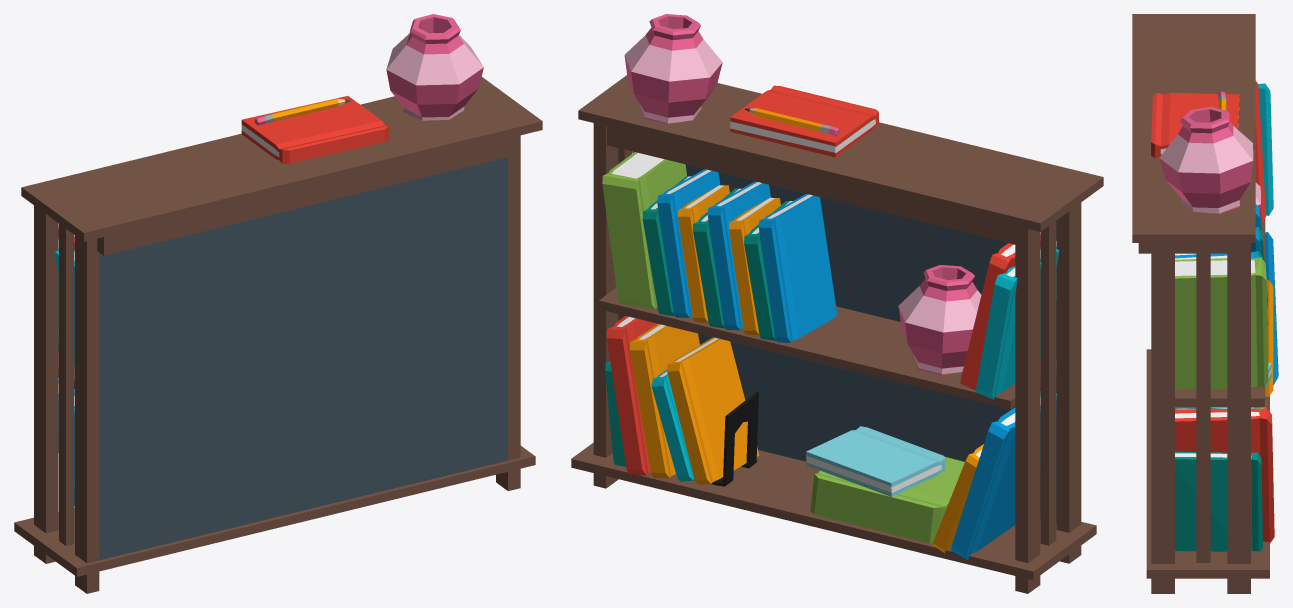
The model's file is lilBook.fbx.
3 renders of one model, left to right at view 1: azimuth 30°, elevation 25°; view 2: azimuth 150°, elevation 25°; view 3: azimuth 270°, elevation 25°, orthographic. The views are drawn at different scales.
Visible parts, largest first — view 1: group187267960, group187267960.001, group187267960.003, group187267960.002; view 2: group187267960, group187267960.001, group187267960.003, group187267960.002; view 3: group187267960, group187267960.001, group187267960.003.
Part boxes in pixels (x1,y1,x2,y2): group187267960: [14, 77, 542, 593]; group187267960.001: [386, 14, 483, 120]; group187267960.003: [241, 96, 388, 163]; group187267960.002: [254, 98, 351, 125]; group187267960: [571, 75, 1103, 593]; group187267960.001: [624, 14, 722, 124]; group187267960.003: [730, 85, 878, 157]; group187267960.002: [745, 108, 839, 135]; group187267960: [1132, 14, 1278, 593]; group187267960.001: [1159, 106, 1253, 213]; group187267960.003: [1151, 93, 1239, 158].
Size of the model in its own units: 110 by 105 by 30.81.
